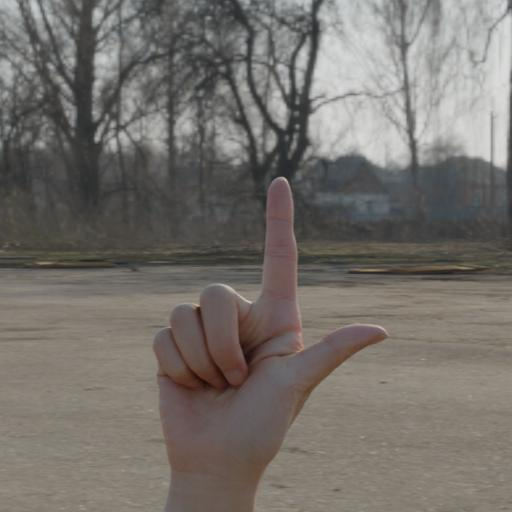L: (144, 170, 394, 497)
